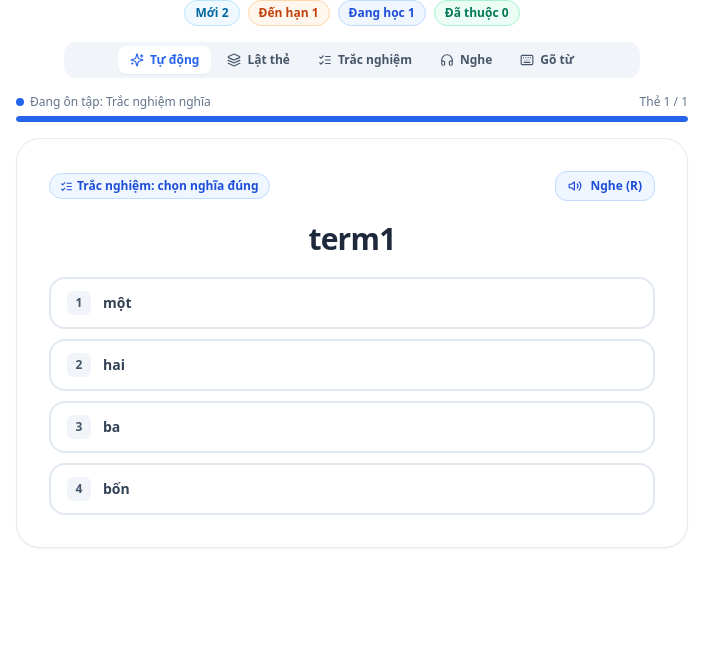
it: StudyMode: multiple choice › locks the answer after the first pick
What coordinates should you click on to do the following:
click the button "2 hai"
I would click on:
 (79, 365)
Its box is [49,339,655,391].
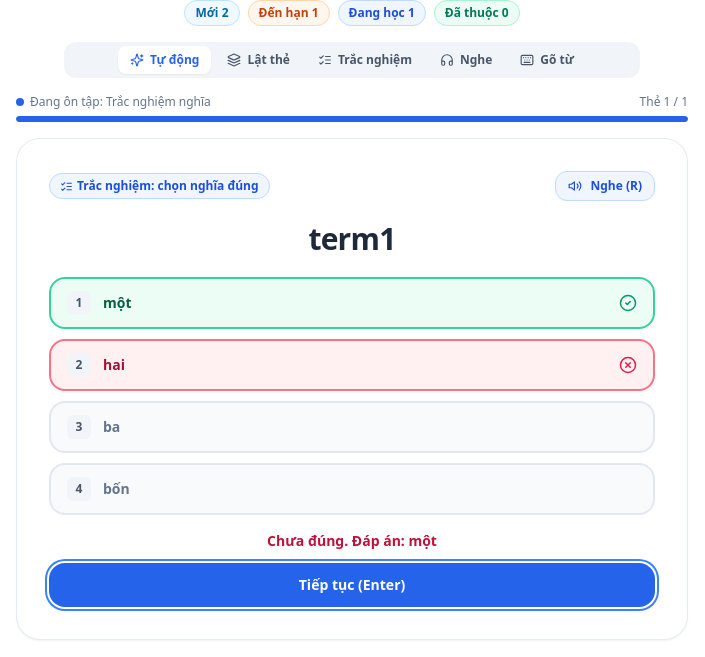
Result: the text "Chưa đúng. Đáp án: một" is shown at [267,531,437,550]
Result: the button "1 một" is disabled at [49,277,655,329]
